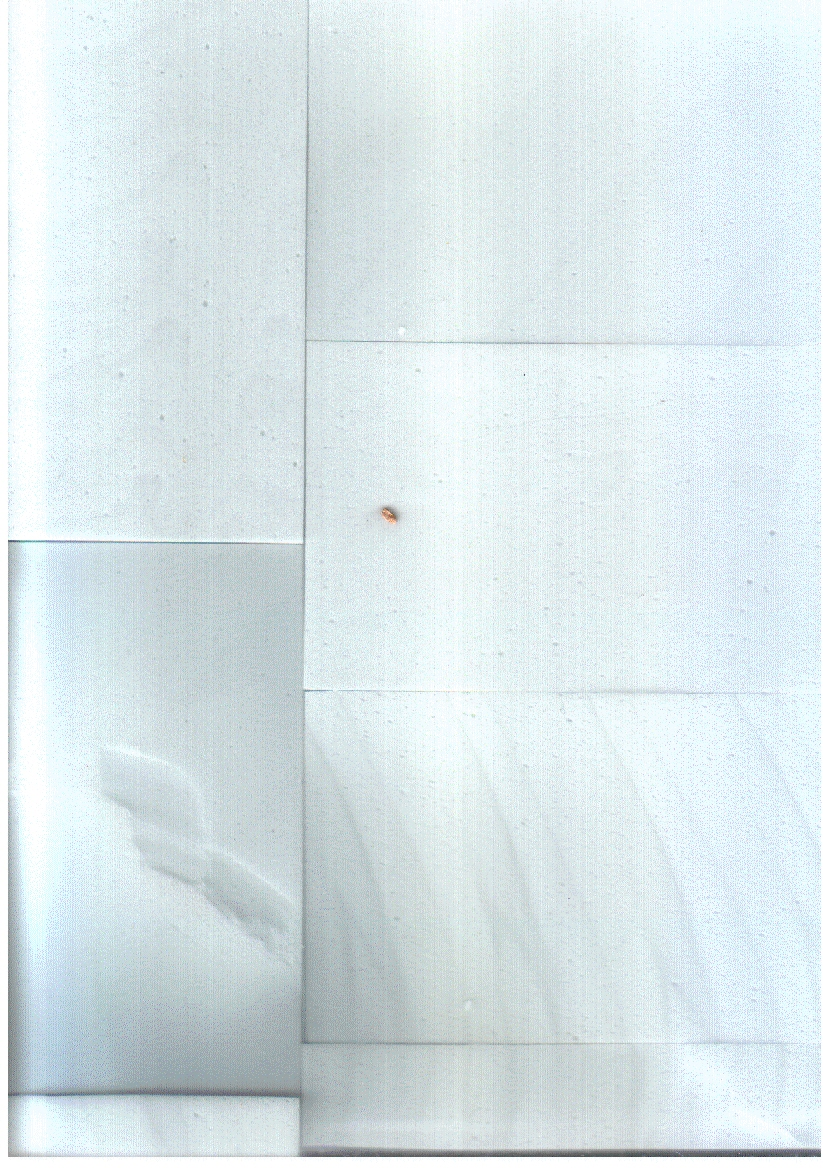grains: (371, 488, 410, 546)
